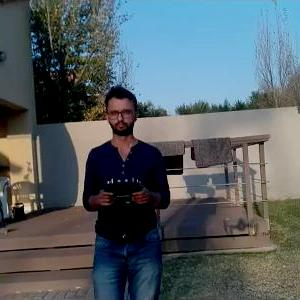follow: (80, 79, 175, 298)
